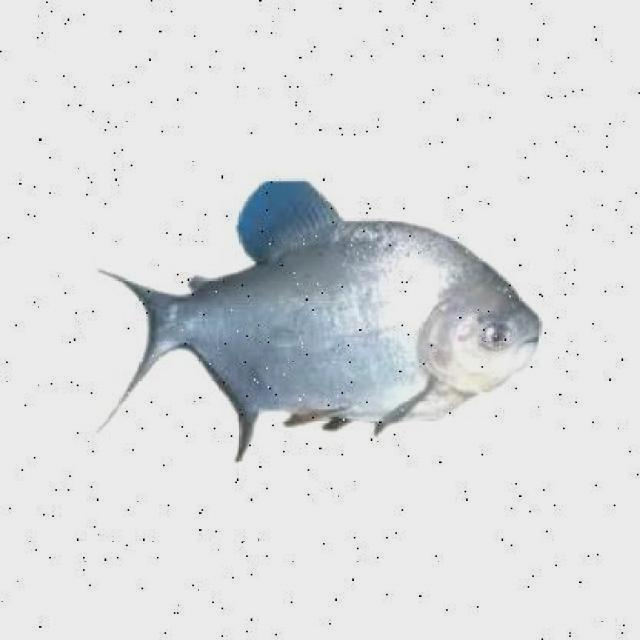ikan-pacu: (145, 192, 544, 436)
